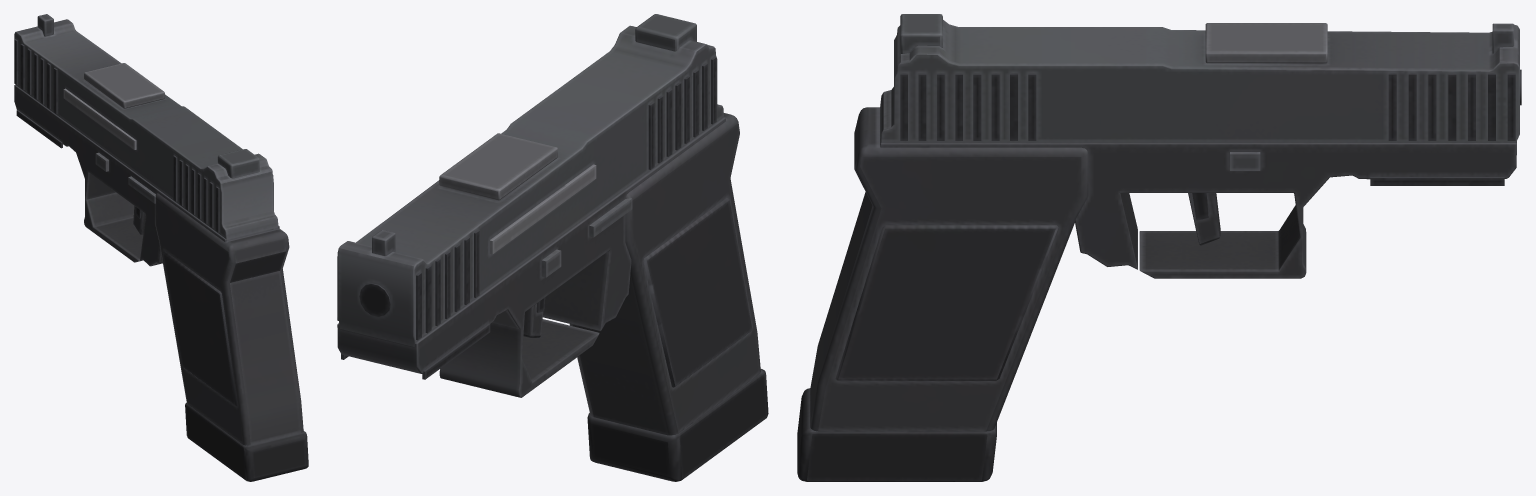
3 views of the same model, side by side, from view 1: azimuth 30°, elevation 25°; view 2: azimuth 150°, elevation 25°; view 3: azimuth 270°, elevation 25° (orthographic). The views are drawn at different scales.
Parts seen in each view (by area): view 1: AT_G19_export; view 2: AT_G19_export; view 3: AT_G19_export.
Part boxes in pixels (x1,y1,x2,y2): AT_G19_export: [14, 14, 308, 481]; AT_G19_export: [337, 14, 768, 481]; AT_G19_export: [797, 14, 1521, 481].
Bounding box in the file's own units: 0.0257 × 0.1708 × 0.1138.
